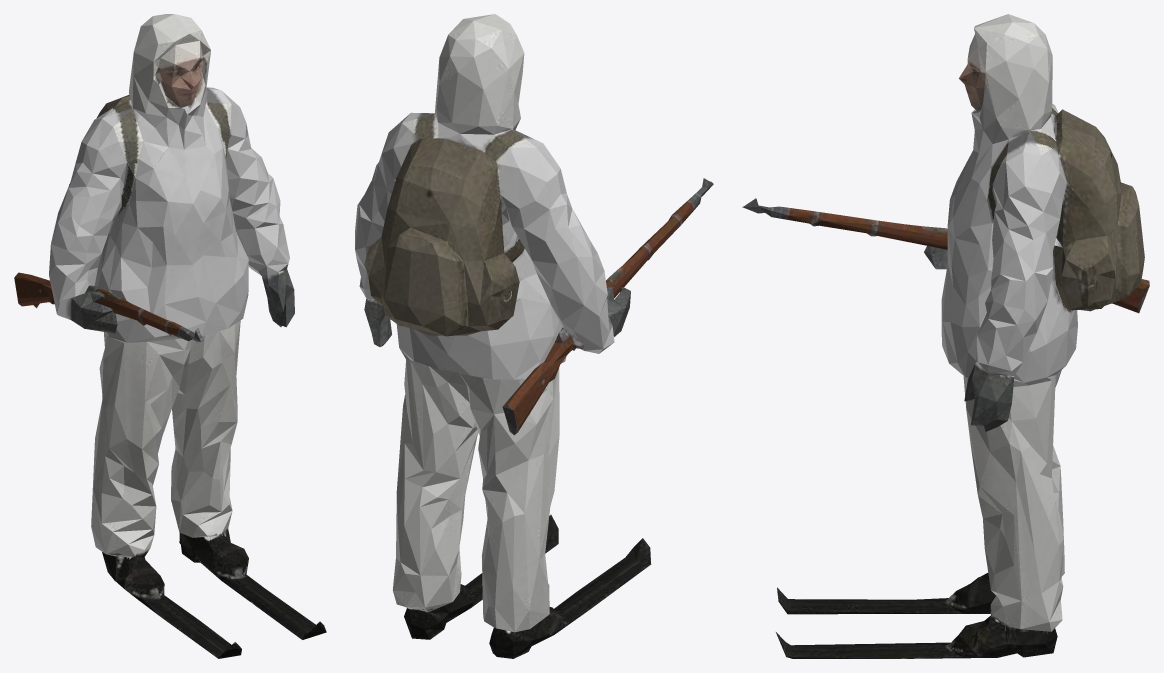
The model's file is realistic-cc0.116a16859014.alpine-trooper.glb.
3 views of the same model, side by side, from view 1: azimuth 30°, elevation 25°; view 2: azimuth 150°, elevation 25°; view 3: azimuth 270°, elevation 25° (orthographic). The views are drawn at different scales.
Parts seen in each view (by area): view 1: alpine-trooper; view 2: alpine-trooper; view 3: alpine-trooper.
Boxes of the visible parts, x1=… form: alpine-trooper: x1=14, y1=14, x2=326, y2=658; alpine-trooper: x1=355, y1=14, x2=713, y2=658; alpine-trooper: x1=742, y1=14, x2=1149, y2=658.
Bounding box in the file's own units: 0.7749 × 1.8 × 1.09.
Materials: 3 (3 with a texture image).
